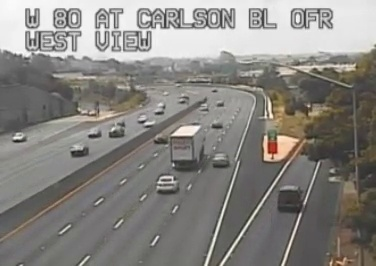car: (277, 186, 302, 211), (156, 174, 178, 192), (213, 153, 230, 166)
truck: (170, 124, 204, 169)
